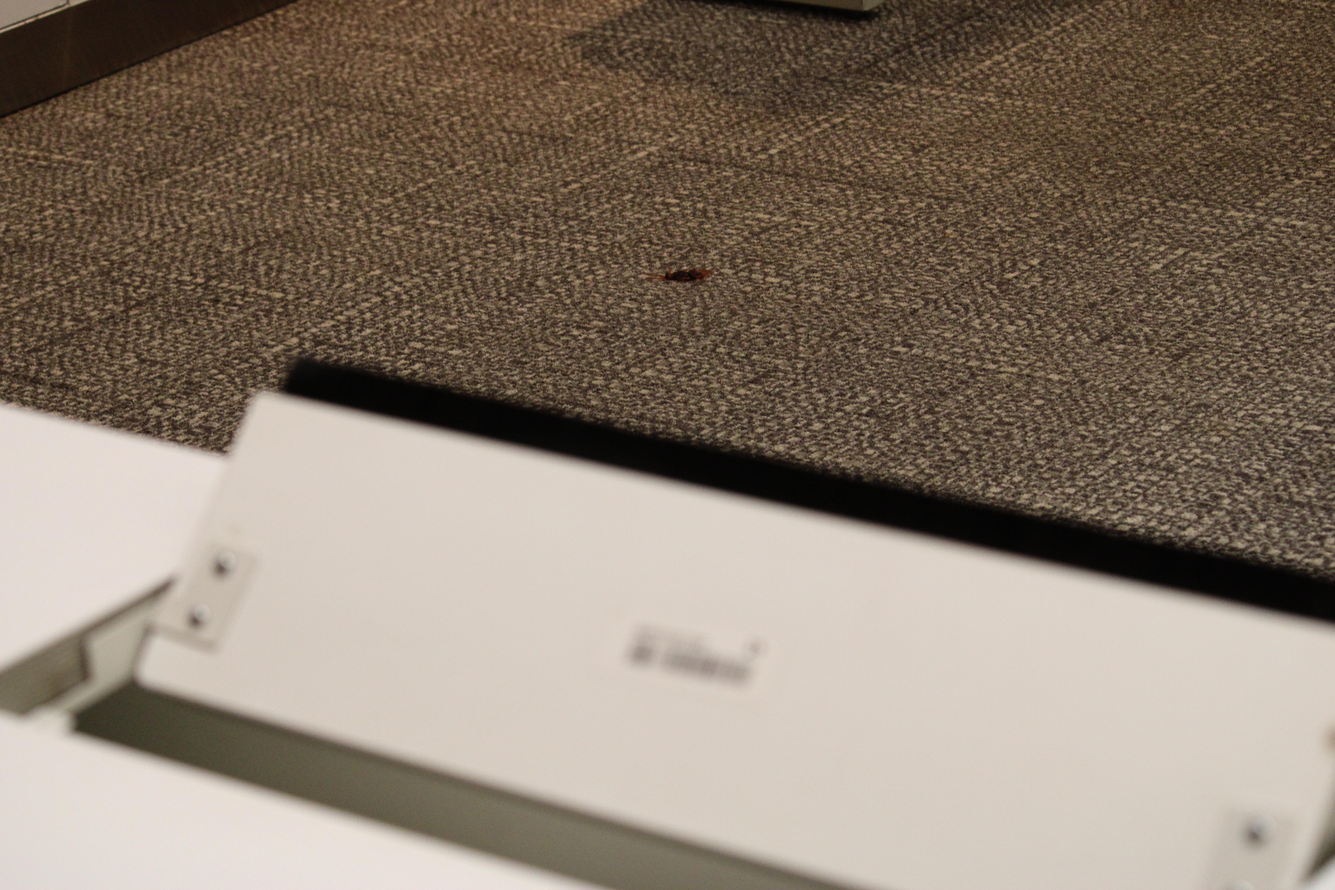cockroach: (655, 250, 711, 294)
